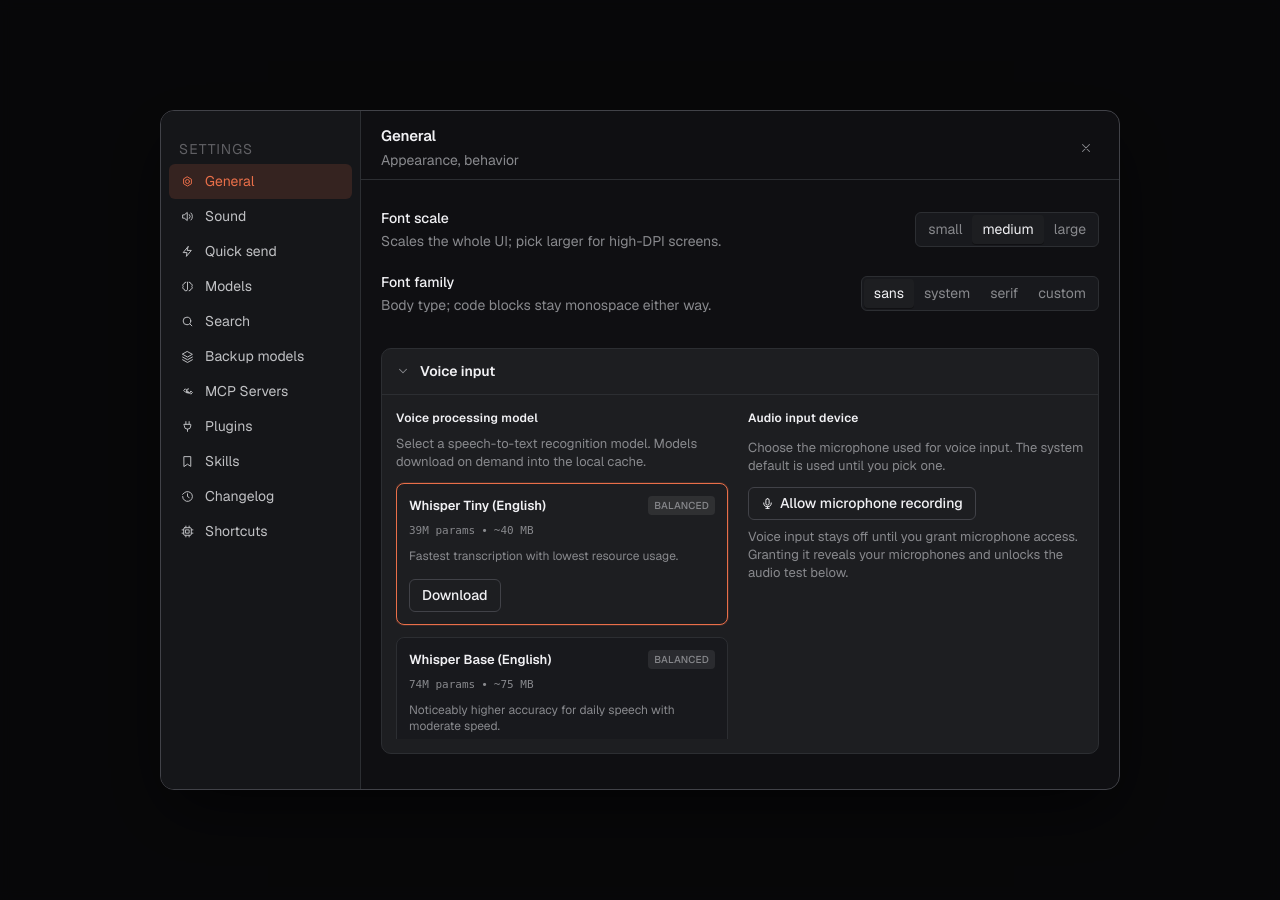
Test case: settings Shortcuts page › is its own page in the nav
Click the text "Quick send": x=241, y=252 [205,241,277,262]
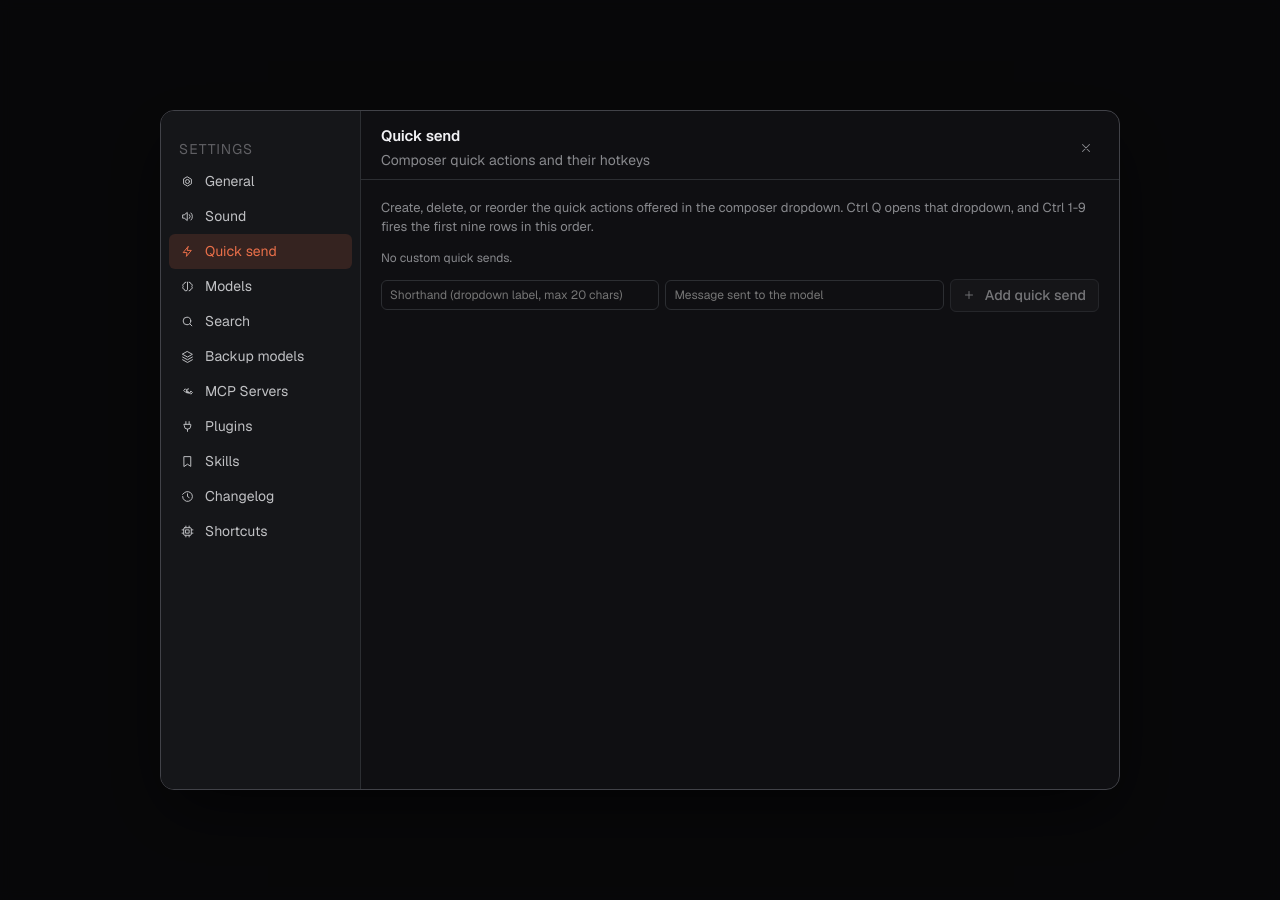
Now the text "Composer quick actions and their hotkeys" is shown, box [381,150,650,170]
Now the field with placeholder "Message sent to the model" is shown, box [665,280,944,310]
